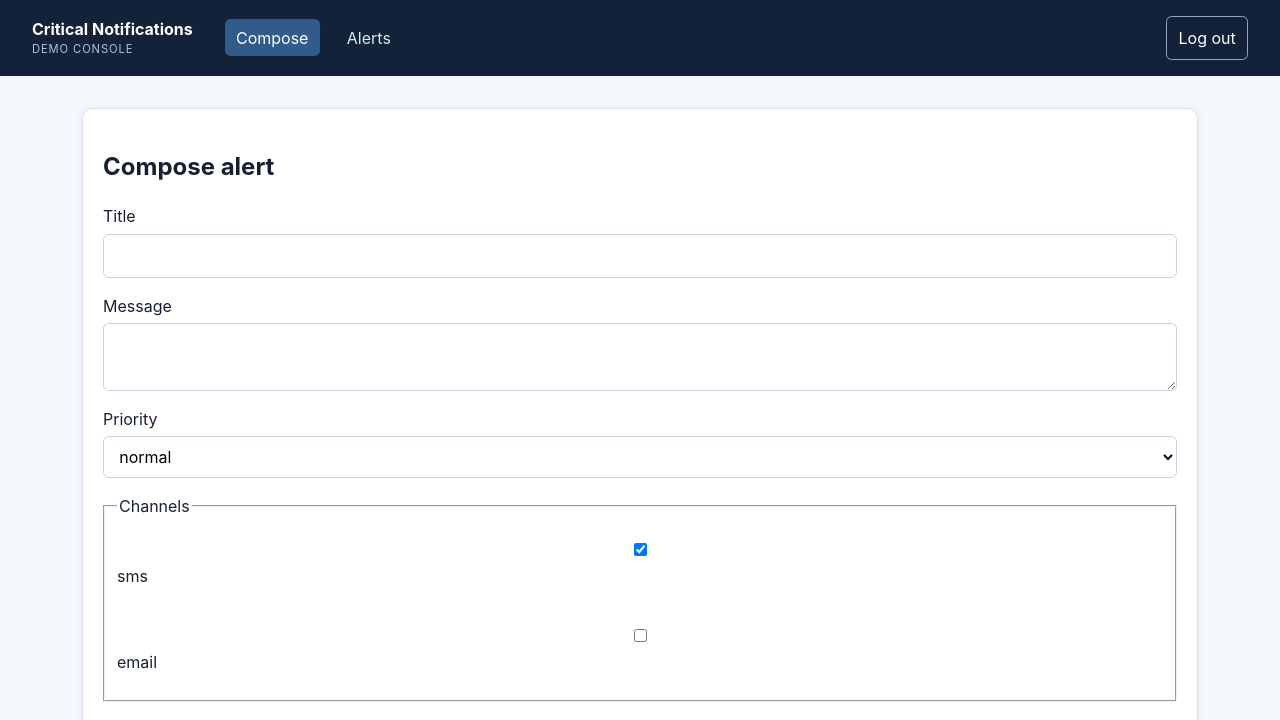
Test: App authentication shell › logout clears the session and returns to login
The width and height of the screenshot is (1280, 720).
Click the button "Log out". click: [1207, 38]
box: [1166,16,1248,60]
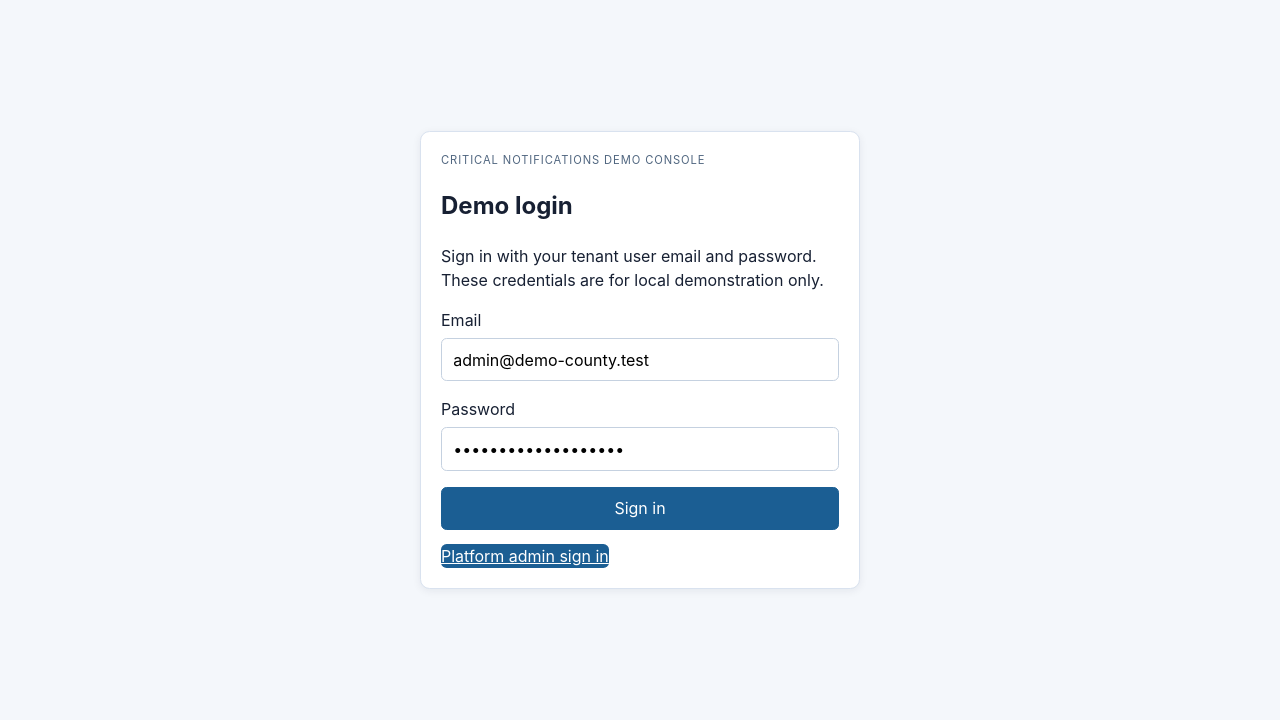
Check: the heading "Demo login" is shown, box [441,191,573,220]
